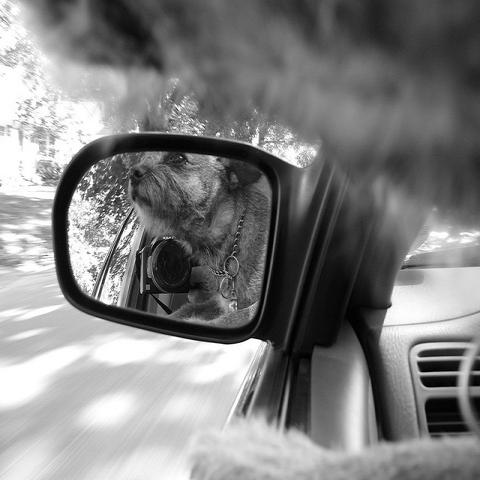car: (51, 132, 480, 479)
